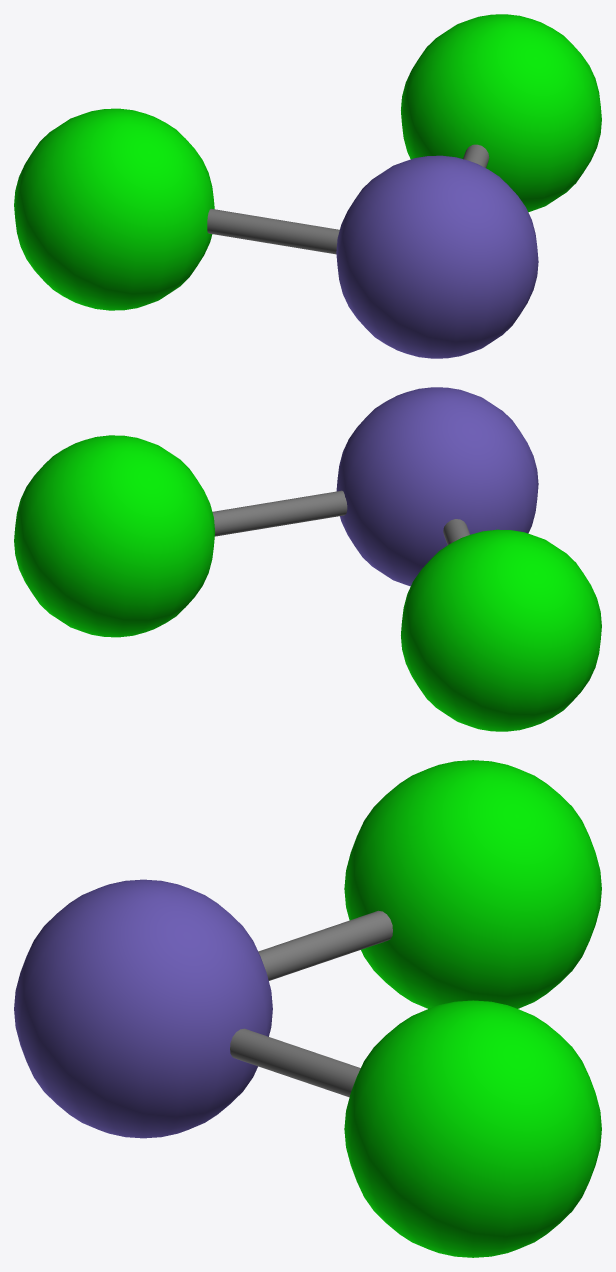
Rendered from MgCl2.fbx.
3 views of the same model, one above another, from view 1: azimuth 30°, elevation 25°; view 2: azimuth 150°, elevation 25°; view 3: azimuth 270°, elevation 25° (orthographic). The views are drawn at different scales.
Visible parts, largest first — view 1: MgCl2; view 2: MgCl2; view 3: MgCl2.
Boxes of the visible parts, x1,y1,x2,y2 form: MgCl2: (14, 14, 601, 358); MgCl2: (14, 387, 601, 731); MgCl2: (14, 760, 601, 1257).
Size of the model in its own units: 8.44 by 2.65 by 6.01.
